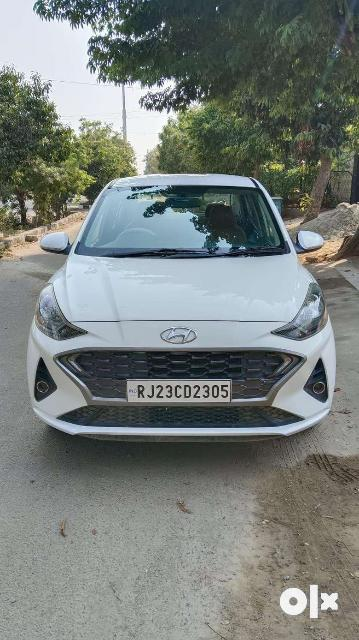Indian_Number_Plate: (124, 378, 234, 404)
